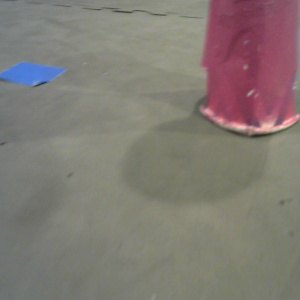right: (199, 2, 300, 137)
